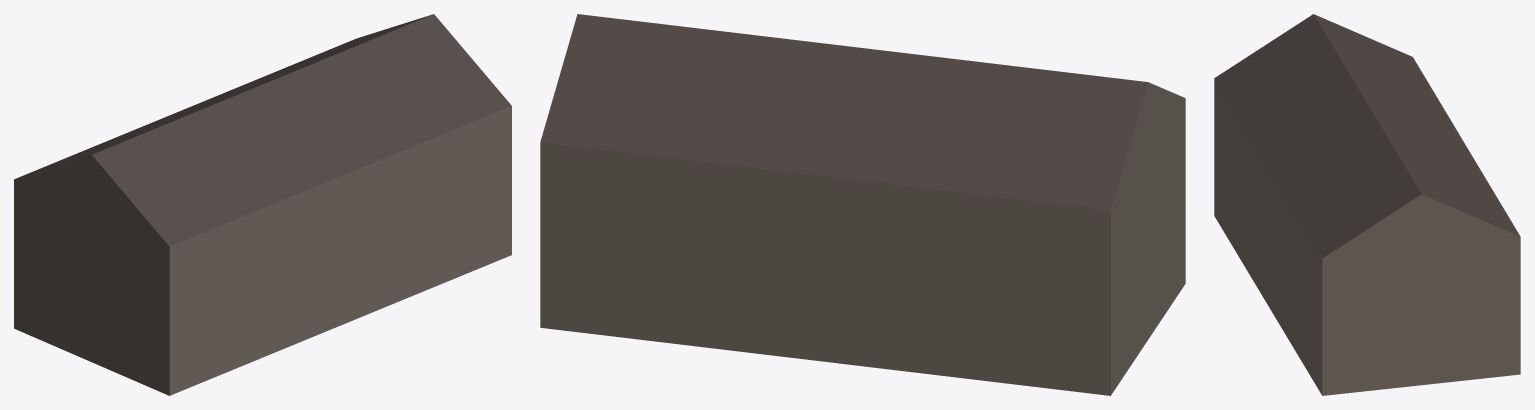
3 views of the same model, side by side, from view 1: azimuth 30°, elevation 25°; view 2: azimuth 150°, elevation 25°; view 3: azimuth 270°, elevation 25° (orthographic). The views are drawn at different scales.
Visible parts, largest first — view 1: HP-w1198667818; view 2: HP-w1198667818; view 3: HP-w1198667818.
Part boxes in pixels (<box>): HP-w1198667818: <box>14,14,511,395</box>; HP-w1198667818: <box>540,14,1185,395</box>; HP-w1198667818: <box>1214,14,1520,395</box>.
Bounding box in the file's own units: 18.88 × 8.34 × 12.13.
